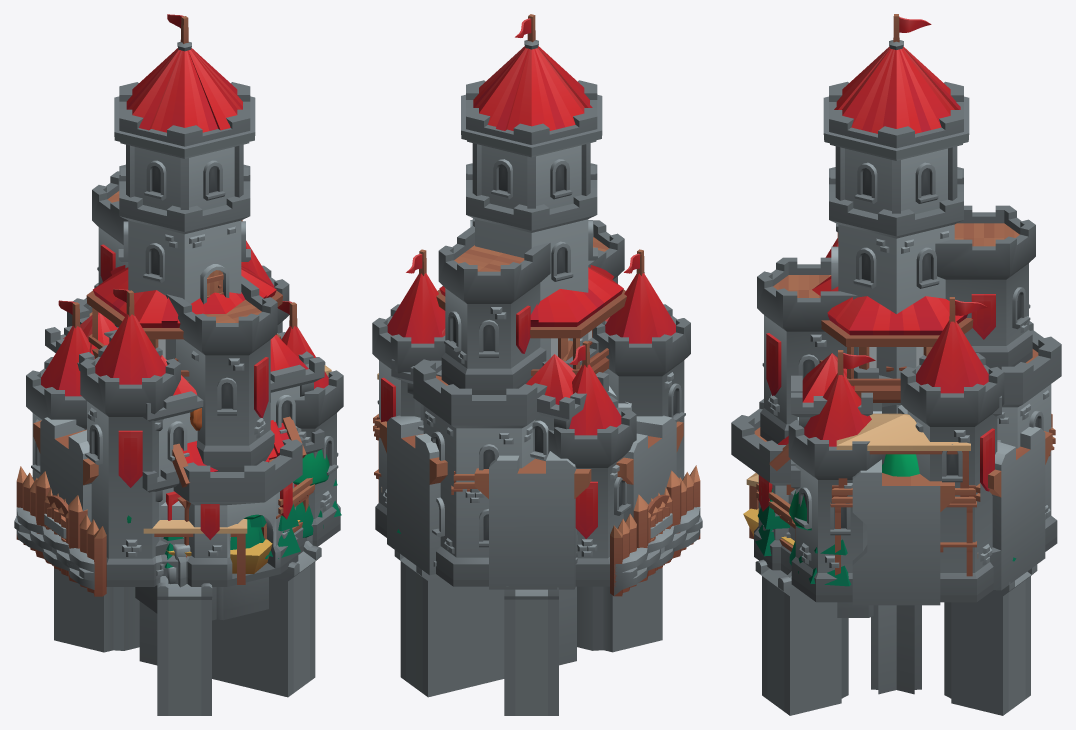
The model's file is kit_town.glb.
The picture shows the model from 3 angles, left to right: view 1: azimuth 30°, elevation 25°; view 2: azimuth 150°, elevation 25°; view 3: azimuth 270°, elevation 25°; orthographic projection. The views are drawn at different scales.
Parts seen in each view (by area): view 1: building_castle_red, building_bridge_A, building_barracks_red, building_bridge_B, building_tower_B_top_red, building_watermill_red, building_scaffolding, wall_corner_B_inside, fence_stone_straight, fence_wood_straight, fence_wood_straight_gate, trees_B_large (+3 smaller); view 2: building_castle_red, building_bridge_B, wall_corner_B_inside, building_bridge_A, wall_corner_B_outside, building_tower_B_top_red, wall_corner_A_outside, building_barracks_red, wall_corner_A_inside, fence_stone_straight, fence_wood_straight, fence_wood_straight_gate (+2 smaller); view 3: building_castle_red, building_bridge_A, building_bridge_B, wall_straight, building_tower_B_top_red, building_scaffolding, wall_straight_gate, wall_corner_A_inside, wall_corner_A_outside, building_barracks_red, trees_A_large, wall_corner_A_gate (+3 smaller).
Part boxes in pixels (bbox=[...]): building_castle_red: bbox=[26, 14, 343, 586]; building_bridge_A: bbox=[54, 541, 321, 697]; building_barracks_red: bbox=[45, 312, 324, 585]; building_bridge_B: bbox=[157, 576, 212, 715]; building_tower_B_top_red: bbox=[86, 264, 282, 383]; building_watermill_red: bbox=[135, 416, 306, 620]; building_scaffolding: bbox=[143, 365, 331, 584]; wall_corner_B_inside: bbox=[40, 417, 94, 510]; fence_stone_straight: bbox=[14, 507, 94, 589]; fence_wood_straight: bbox=[16, 466, 106, 596]; fence_wood_straight_gate: bbox=[24, 471, 106, 596]; trees_B_large: bbox=[127, 449, 329, 549]; building_castle_red: bbox=[372, 14, 690, 586]; building_bridge_B: bbox=[394, 548, 662, 697]; wall_corner_B_inside: bbox=[474, 421, 683, 589]; building_bridge_A: bbox=[504, 586, 558, 715]; wall_corner_B_outside: bbox=[489, 403, 671, 589]; building_tower_B_top_red: bbox=[436, 265, 626, 375]; wall_corner_A_outside: bbox=[387, 418, 676, 574]; building_barracks_red: bbox=[391, 317, 609, 461]; wall_corner_A_inside: bbox=[379, 421, 681, 575]; fence_stone_straight: bbox=[614, 507, 702, 595]; fence_wood_straight: bbox=[610, 465, 700, 596]; fence_wood_straight_gate: bbox=[610, 470, 700, 596]; building_castle_red: bbox=[731, 14, 1061, 602]; building_bridge_A: bbox=[755, 559, 896, 715]; building_bridge_B: bbox=[896, 564, 1037, 715]; wall_straight: bbox=[852, 459, 954, 591]; building_tower_B_top_red: bbox=[812, 276, 973, 402]; building_scaffolding: bbox=[746, 413, 1055, 576]; wall_straight_gate: bbox=[852, 403, 954, 605]; wall_corner_A_inside: bbox=[988, 426, 1045, 590]; wall_corner_A_outside: bbox=[997, 431, 1052, 575]; building_barracks_red: bbox=[791, 353, 1001, 489]; trees_A_large: bbox=[753, 489, 1016, 586]; wall_corner_A_gate: bbox=[898, 405, 1052, 590].
Bounding box in the file's own units: 2.1 × 4.98 × 2.26.
1 material, 1 textured.
